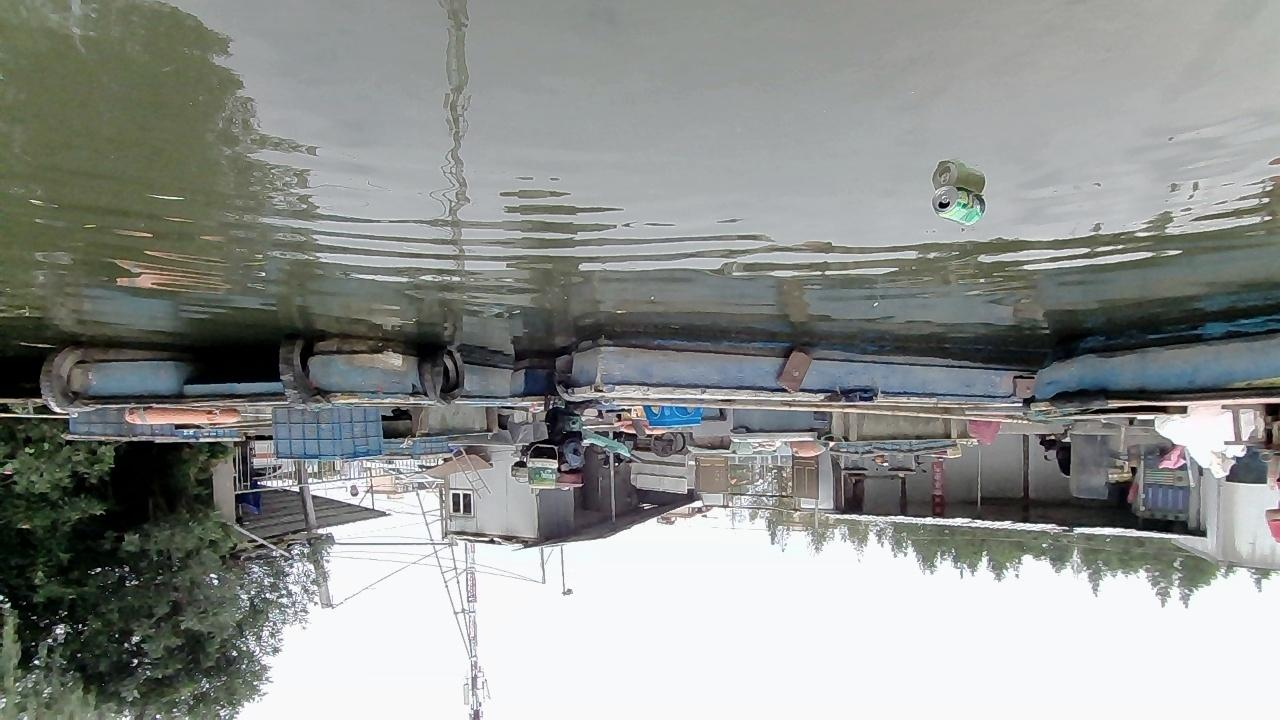Metal: (930, 184, 987, 227)
